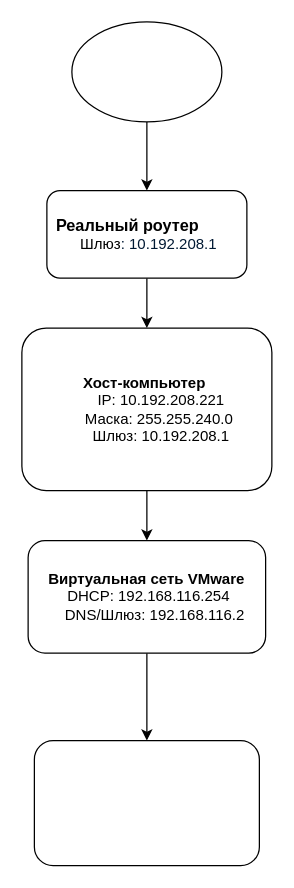
This 294x888 diagram has some shape labels left out. Here are the shapes that lost their labels. From the top down, the centre of each, then its label:
At pixel 146 71: "Интернет".
At pixel 146 802: "Гостевая ОС IP: 192.168.116.128 Маска: 255.255.255.0 Шлюз: 192.168.116.2".
